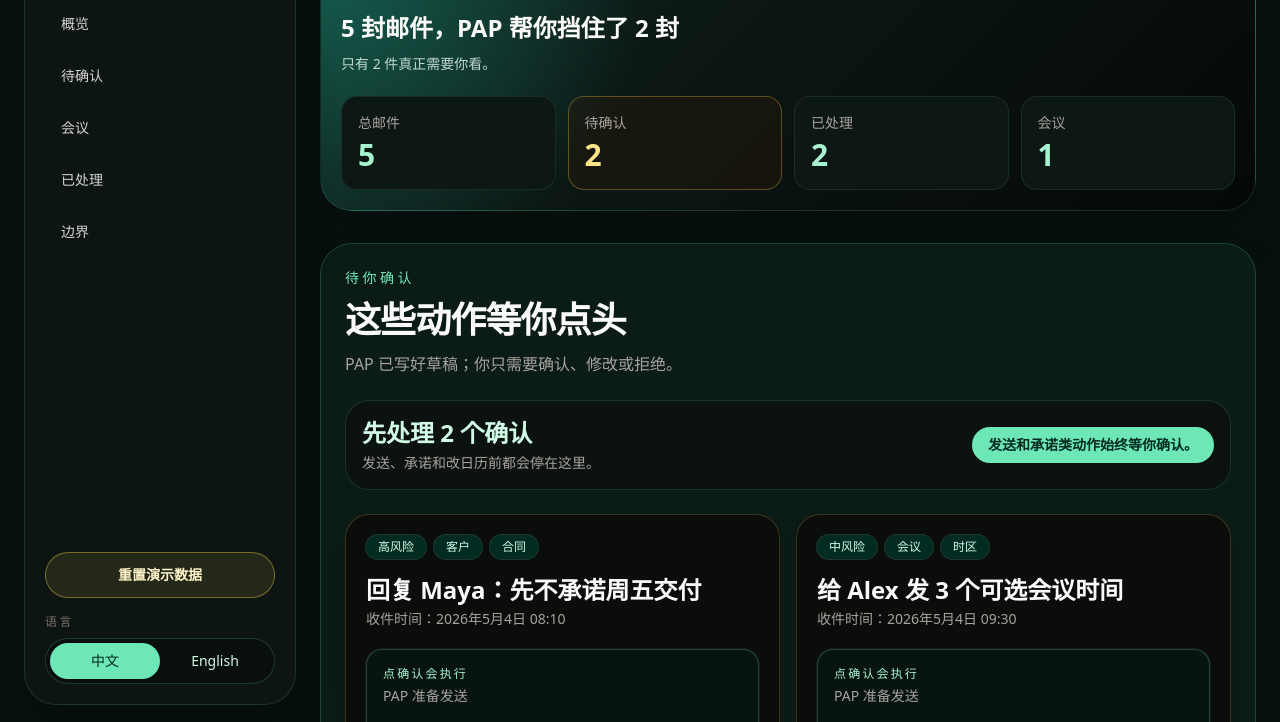
PAP dashboard › can switch to English
Click the button "English": (215, 661) left=160, top=643, right=270, bottom=679
(page scrolled)
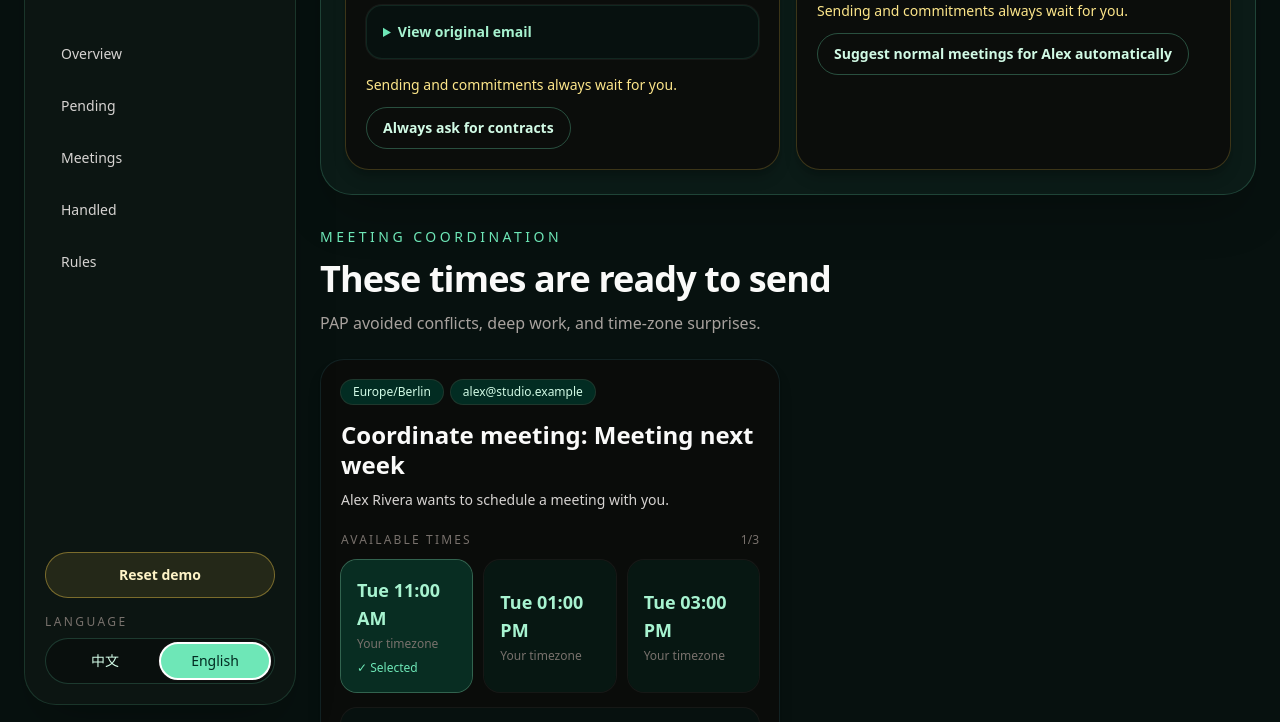
Expected: the heading "These times are ready to send" is shown, left=320, top=254, right=831, bottom=303
